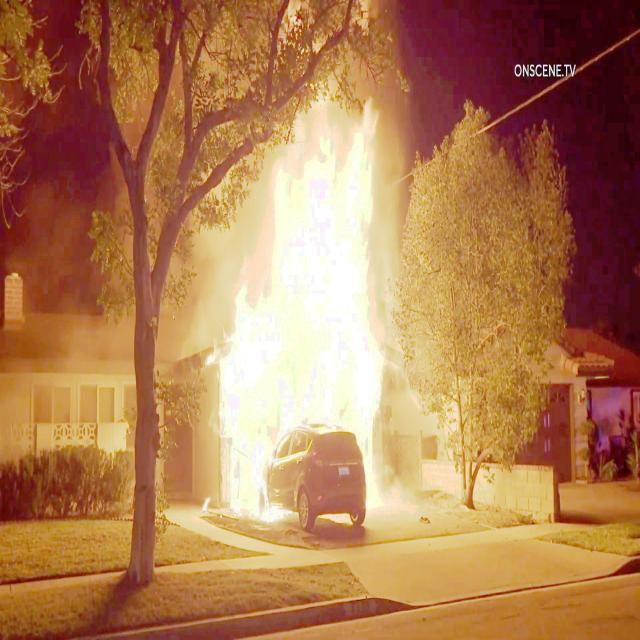Fire: (282, 147, 383, 426), (236, 274, 282, 434), (223, 359, 266, 509)
Smoke: (190, 236, 230, 339)
